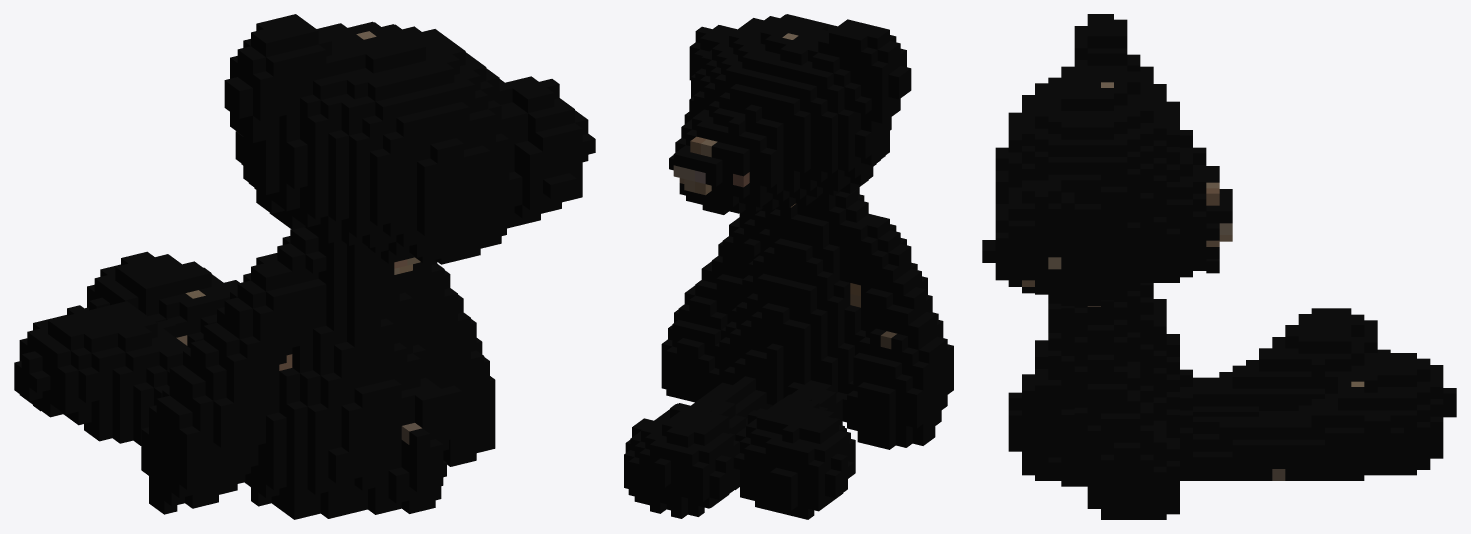
The model's file is vertices.obj.
The picture shows the model from 3 angles, left to right: view 1: azimuth 30°, elevation 25°; view 2: azimuth 150°, elevation 25°; view 3: azimuth 270°, elevation 25°; orthographic projection. The views are drawn at different scales.
Parts seen in each view (by area): view 1: default; view 2: default; view 3: default.
Part boxes in pixels (<box>): default: <box>14,14,595,519</box>; default: <box>624,14,953,519</box>; default: <box>982,14,1456,519</box>.
Size of the model in its own units: 28 by 34 by 36.
Materials: 1 (1 with a texture image).
